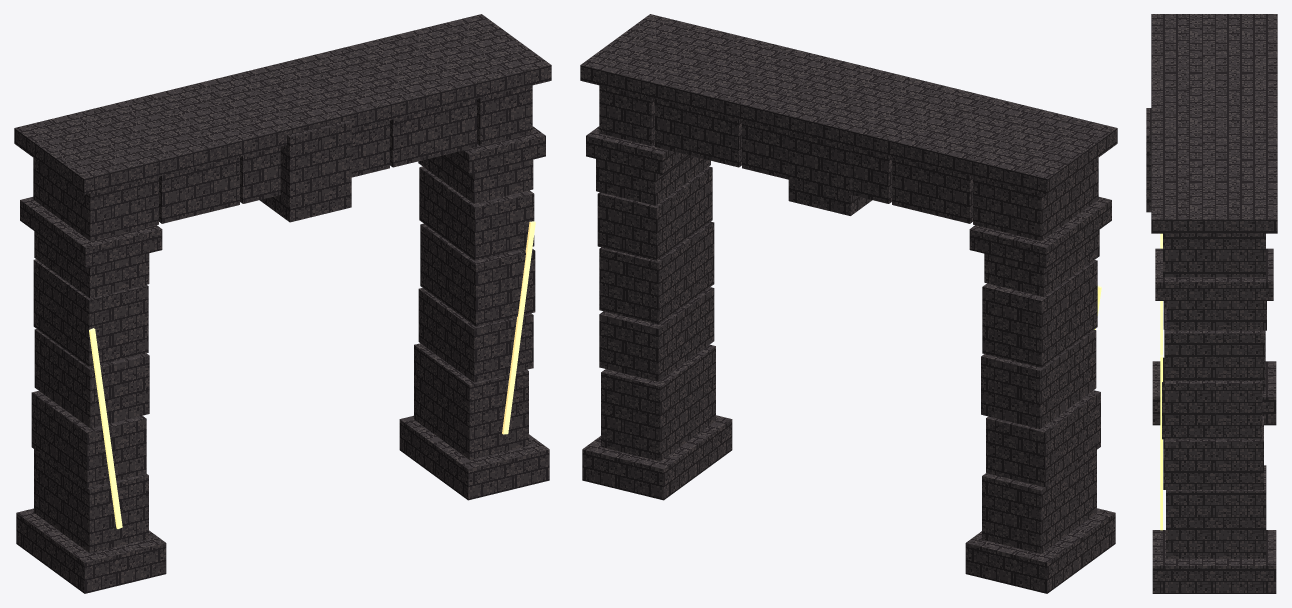
The model's file is wall_frame_basalt.glb.
The picture shows the model from 3 angles, left to right: view 1: azimuth 30°, elevation 25°; view 2: azimuth 150°, elevation 25°; view 3: azimuth 270°, elevation 25°; orthographic projection. The views are drawn at different scales.
Parts seen in each view (by area): view 1: Body.004; view 2: Body.004; view 3: Body.004.
Boxes of the visible parts, x1=… form: Body.004: x1=14, y1=14, x2=551, y2=593; Body.004: x1=580, y1=14, x2=1117, y2=593; Body.004: x1=1146, y1=14, x2=1277, y2=593.
Size of the model in its own units: 3.78 by 3.21 by 1.02.
Materials: 2 (1 with a texture image).
